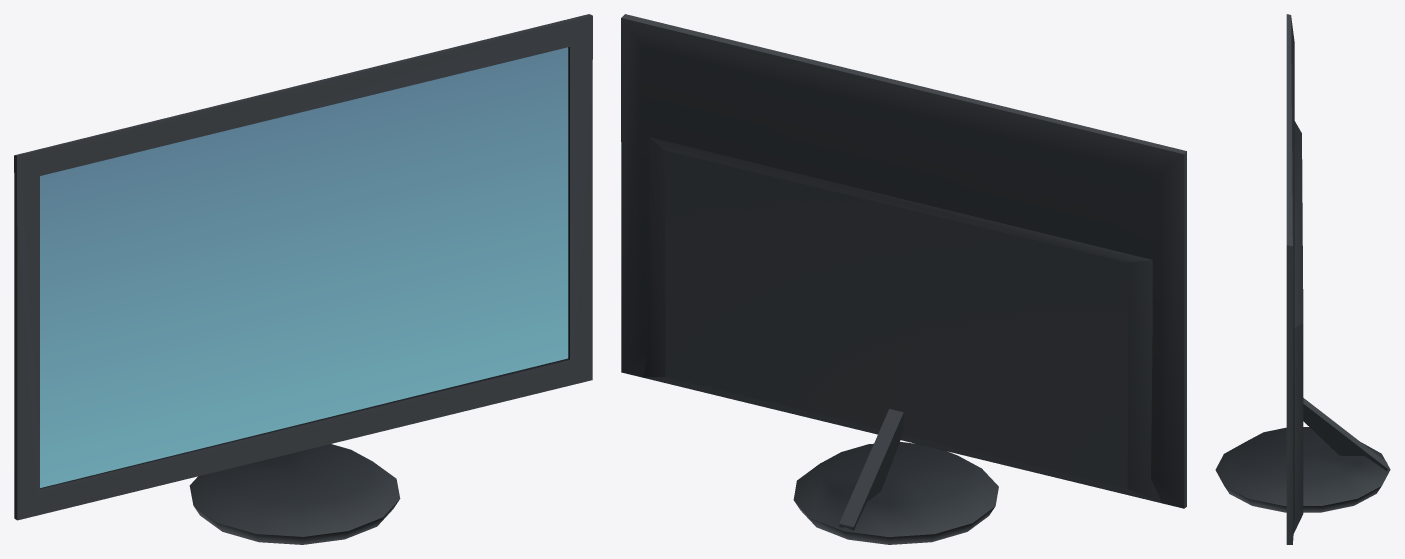
File: human-electronics-computer-monitor_v1.glb
3 renders of one model, left to right at view 1: azimuth 30°, elevation 25°; view 2: azimuth 150°, elevation 25°; view 3: azimuth 270°, elevation 25°, orthographic. The views are drawn at different scales.
Visible parts, largest first — view 1: Computer Monitor.001, Computer Monitor; view 2: Computer Monitor; view 3: Computer Monitor.
Boxes of the visible parts, x1,y1,x2,y2 form: Computer Monitor.001: (40,47,568,487); Computer Monitor: (14,14,592,544); Computer Monitor: (621,14,1186,544); Computer Monitor: (1215,14,1390,544).
Bounding box in the file's own units: 0.55 × 0.3874 × 0.176.
